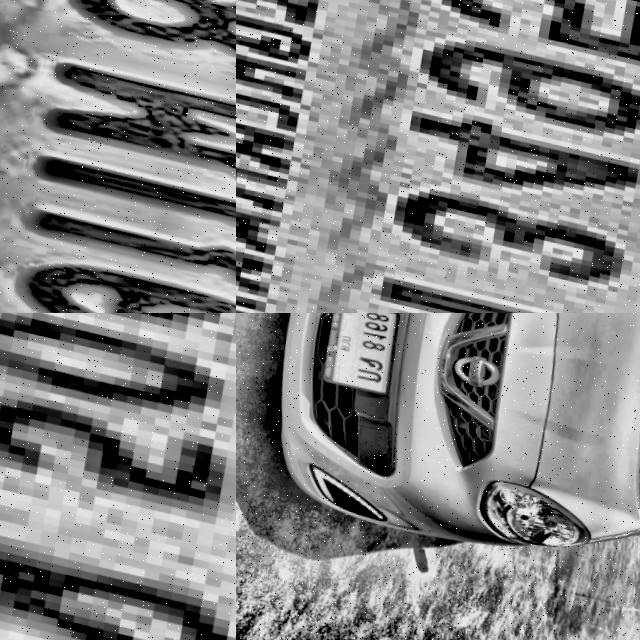license-plate: (236, 0, 640, 313), (0, 313, 236, 640), (0, 0, 236, 313), (318, 313, 409, 394)
